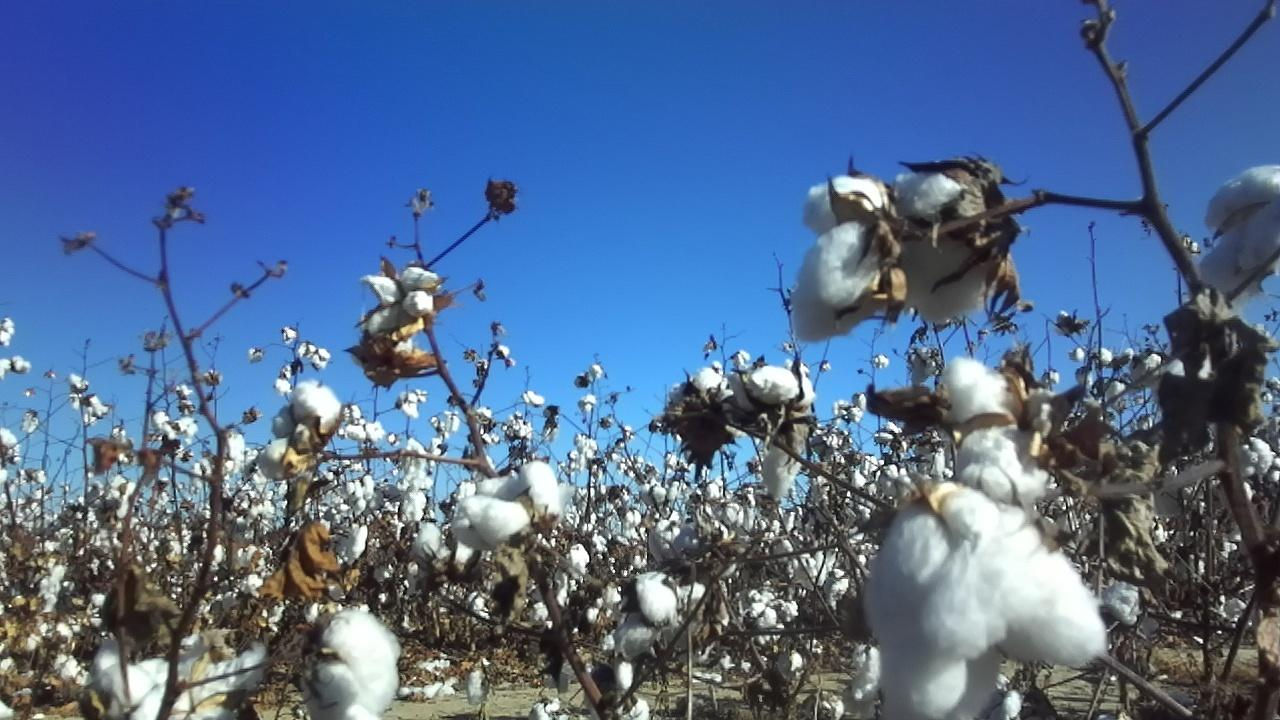cotton_ready: (870, 494, 1106, 720), (794, 177, 890, 344), (944, 357, 1048, 509), (99, 629, 265, 720), (890, 171, 987, 324), (304, 609, 402, 720), (1199, 166, 1280, 297), (748, 367, 815, 504), (260, 379, 345, 479), (461, 459, 562, 538), (665, 369, 739, 444), (363, 267, 442, 335), (621, 579, 679, 650)
